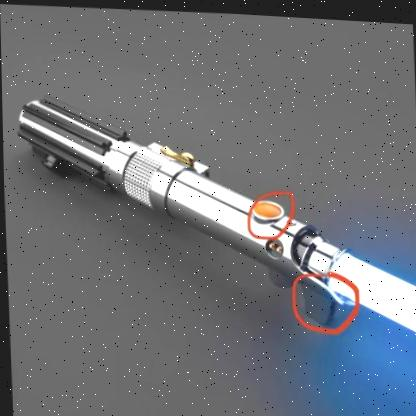lightsaber: (15, 82, 416, 341)
